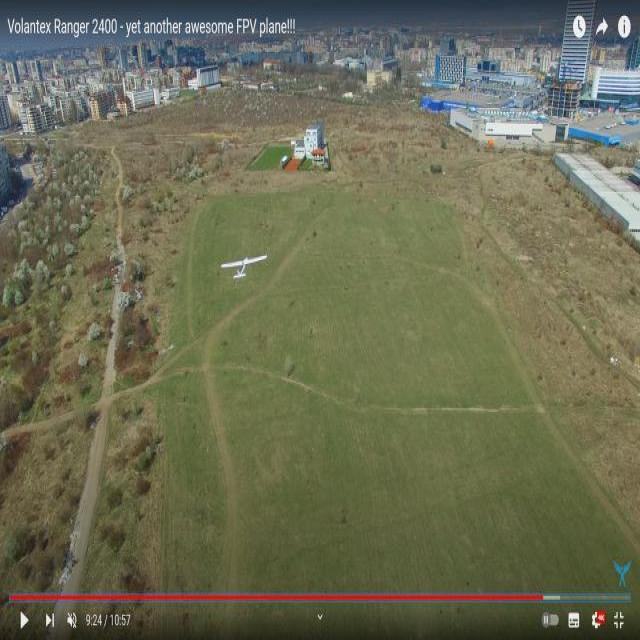iha: (212, 233, 270, 291)
